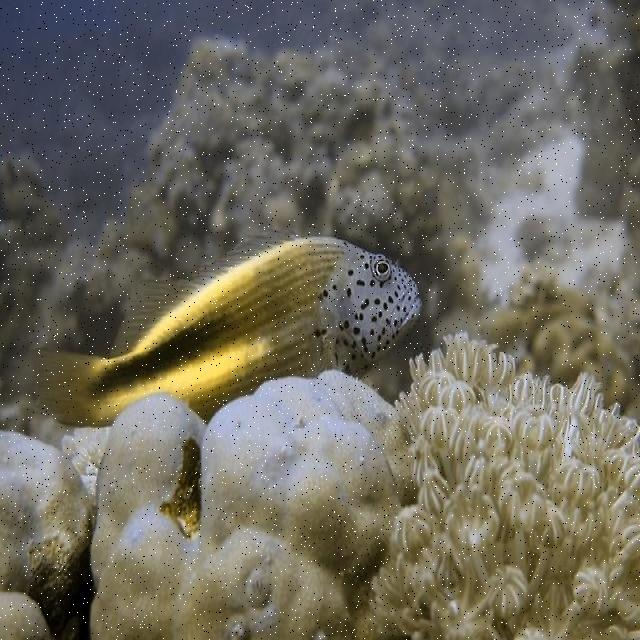aquatic plants: (369, 346, 639, 639)
fish: (33, 240, 423, 428)
reefs: (87, 376, 415, 639), (1, 428, 86, 638)
